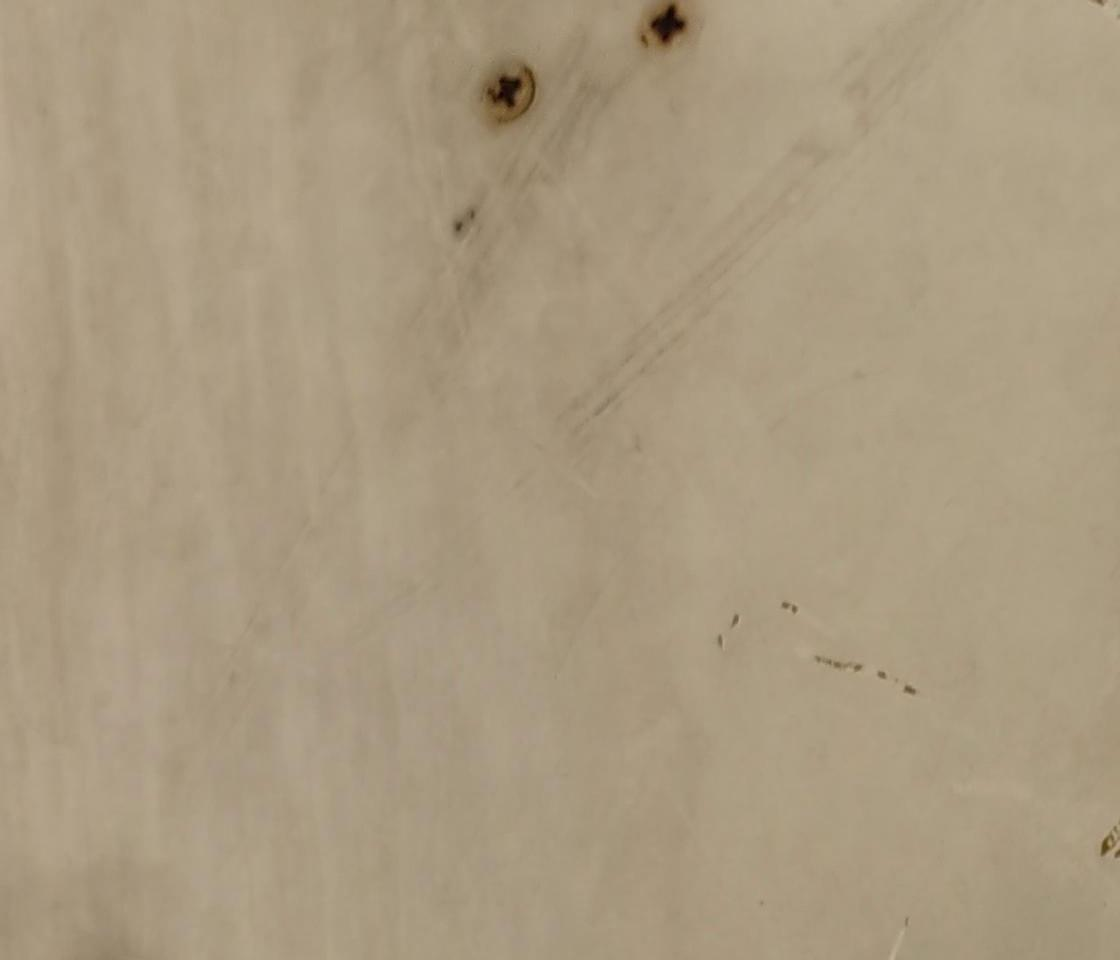rivet_damage: (473, 58, 540, 128), (640, 1, 700, 55)
